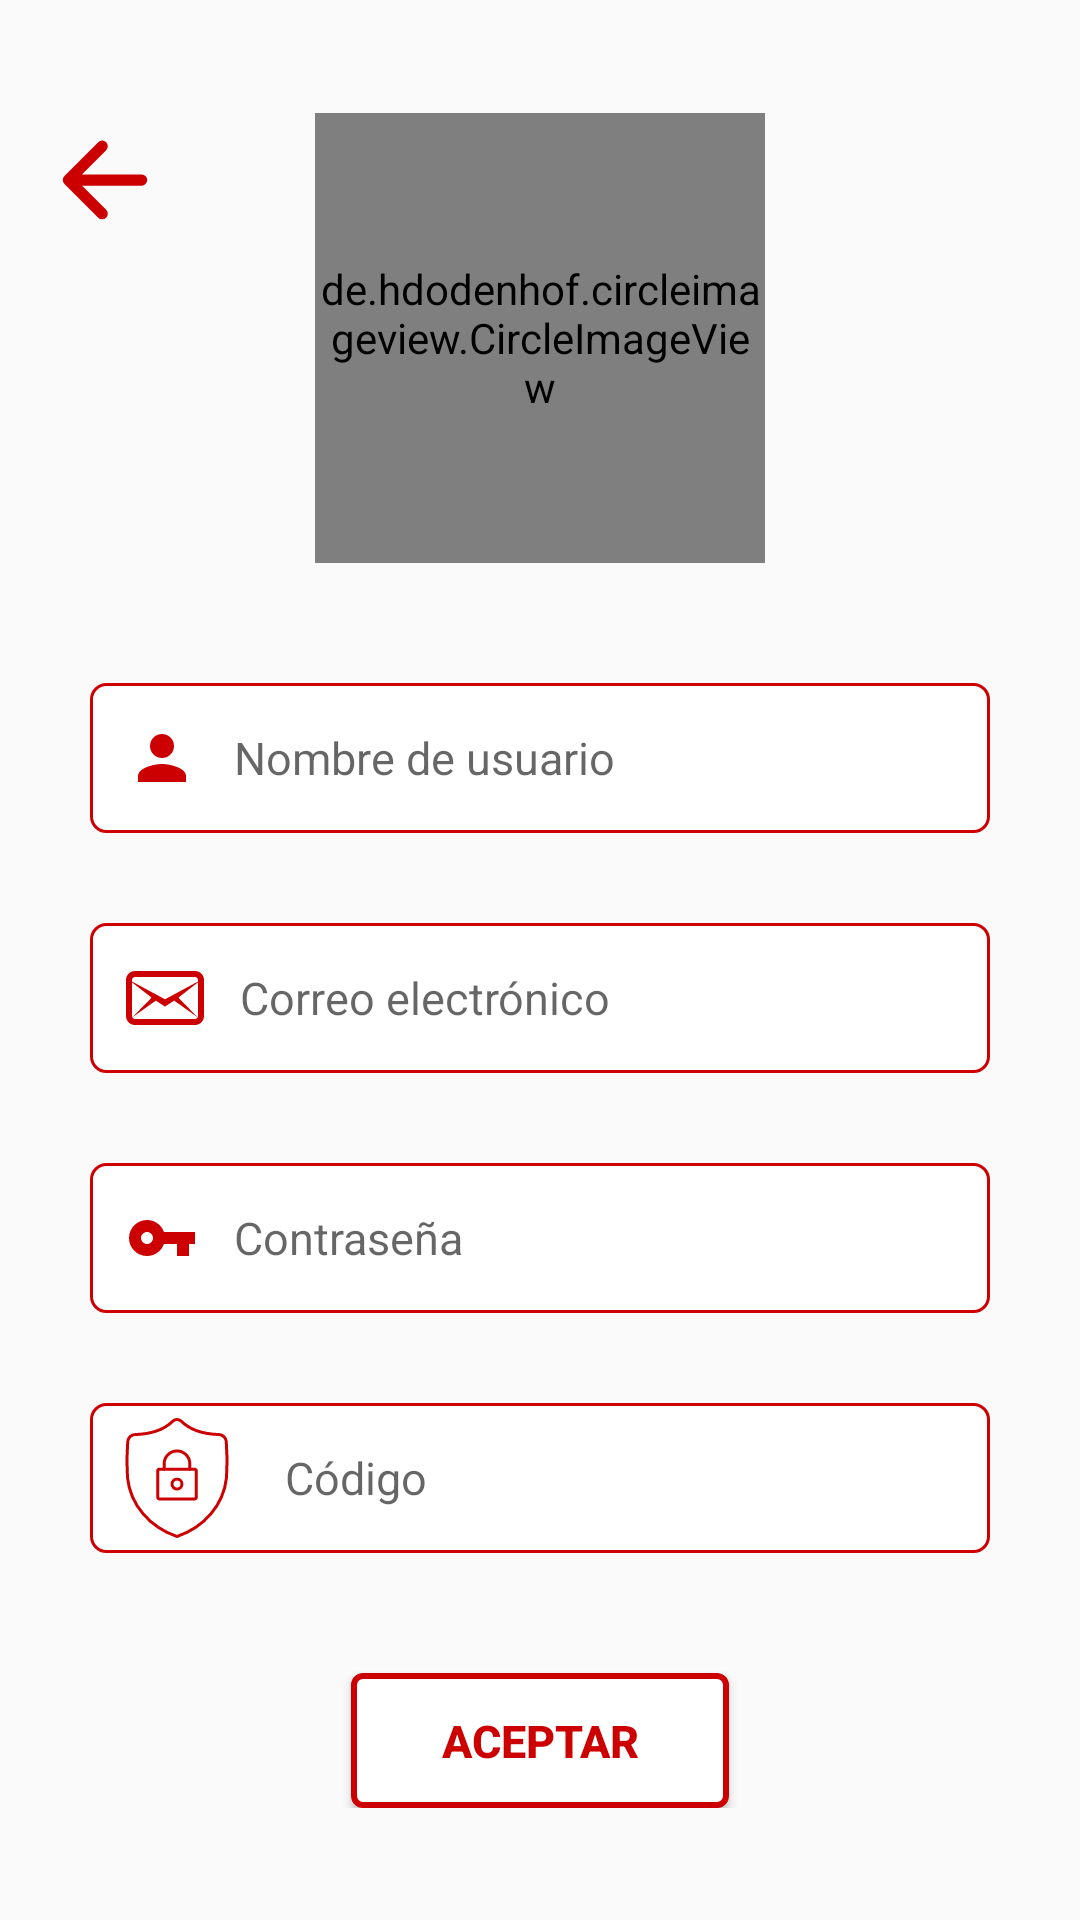

Icon click points for this 1080w x 1920h phone screenshot, format (x=x, y=y):
back: (x=104, y=180)
